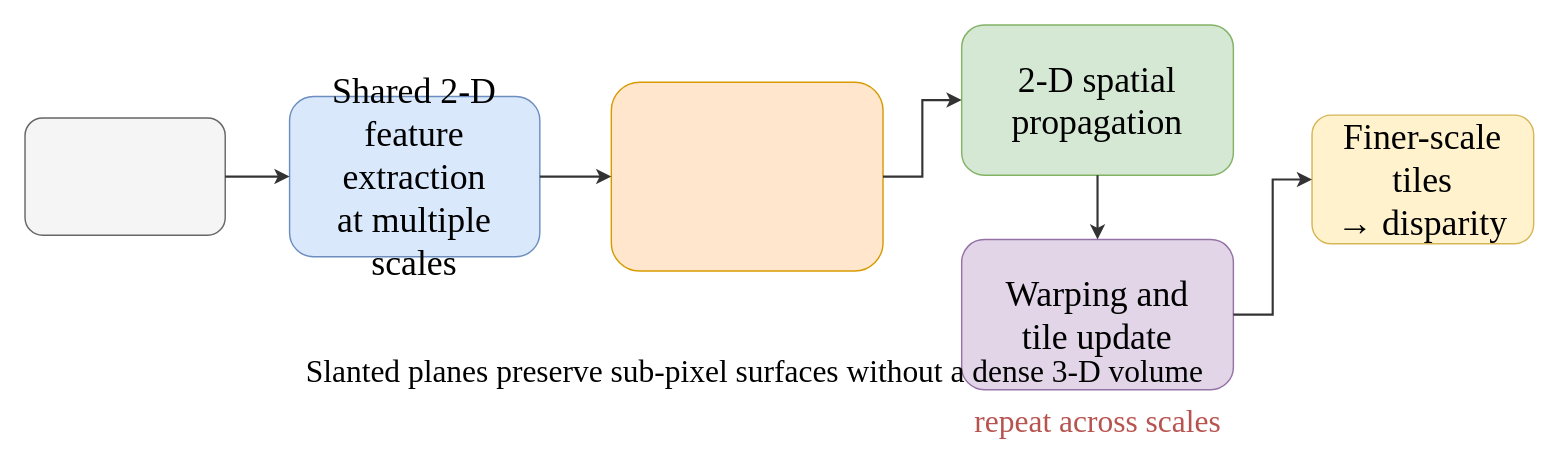
This 1559x466 diagram has some shape labels left out. Here are the shapes that lost their labels. From the top down, the box of each, then its label:
(24, 117, 225, 235): Stereo image pyramid
(610, 81, 883, 271): Tile initialization d, sₓ, sᵧ + descriptor
